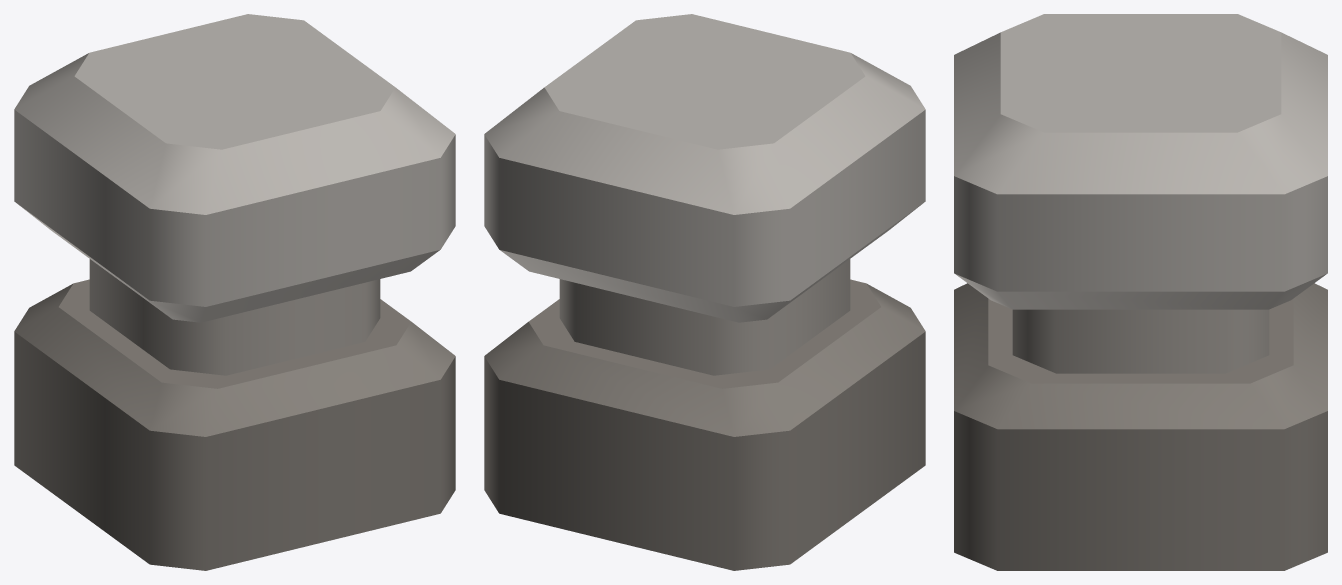
Rendered from Stone Fence Corner 01.FBX.
3 views of the same model, side by side, from view 1: azimuth 30°, elevation 25°; view 2: azimuth 150°, elevation 25°; view 3: azimuth 270°, elevation 25° (orthographic). The views are drawn at different scales.
Visible parts, largest first — view 1: Stone Fence Corner 01; view 2: Stone Fence Corner 01; view 3: Stone Fence Corner 01.
Part boxes in pixels (x1=…): Stone Fence Corner 01: x1=14, y1=14, x2=455, y2=570; Stone Fence Corner 01: x1=484, y1=14, x2=925, y2=570; Stone Fence Corner 01: x1=954, y1=14, x2=1327, y2=570.
Bounding box in the file's own units: 58.47 × 72.3 × 58.47.
Materials: 1 (1 with a texture image).
